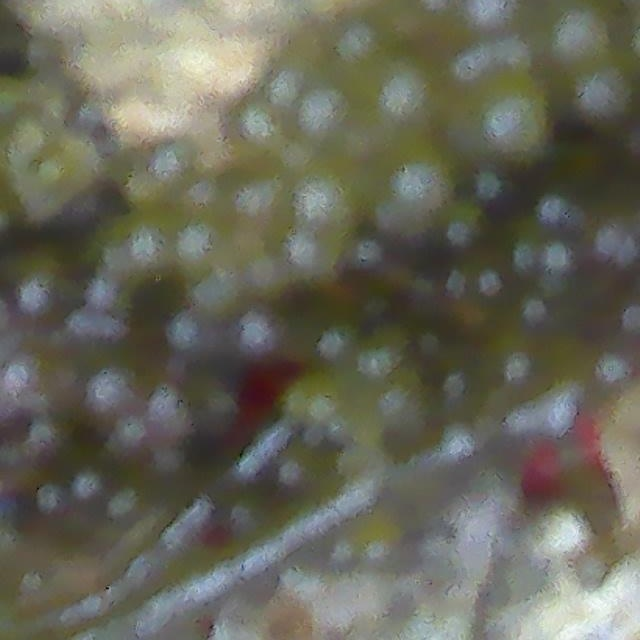SeaGrape: (372, 62, 444, 153), (477, 92, 549, 163), (386, 158, 451, 220), (551, 3, 609, 62), (297, 170, 346, 237), (293, 97, 353, 145)
